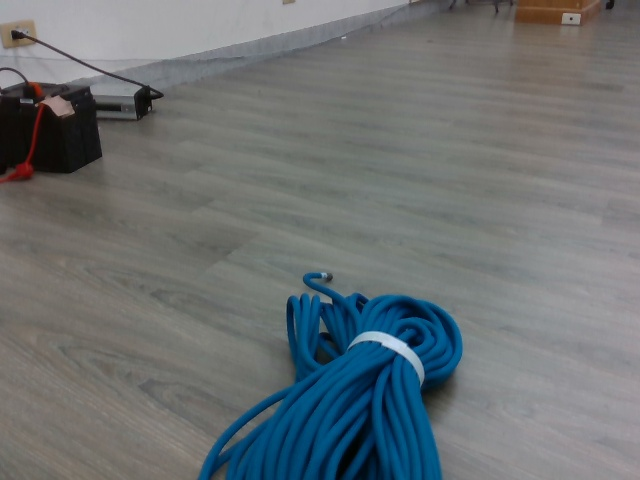rope: (197, 289, 470, 480)
